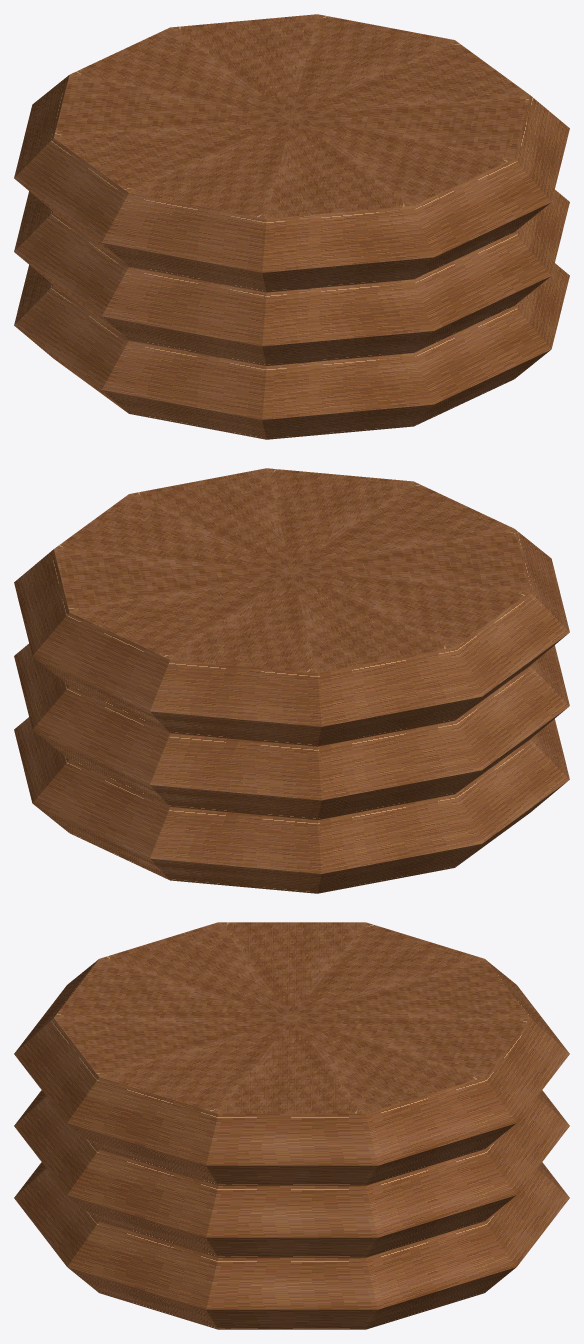
Rendered from tira_de_couro.glb.
3 renders of one model, top to bottom at view 1: azimuth 30°, elevation 25°; view 2: azimuth 150°, elevation 25°; view 3: azimuth 270°, elevation 25°, orthographic. The views are drawn at different scales.
Parts seen in each view (by area): view 1: tira_de_couro; view 2: tira_de_couro; view 3: tira_de_couro.
Part boxes in pixels (bbox=[...]): tira_de_couro: bbox=[14, 14, 569, 439]; tira_de_couro: bbox=[14, 468, 569, 893]; tira_de_couro: bbox=[14, 922, 569, 1329].
Bounding box in the file's own units: 0.3994 × 0.18 × 0.42.
1 material, 1 textured.
